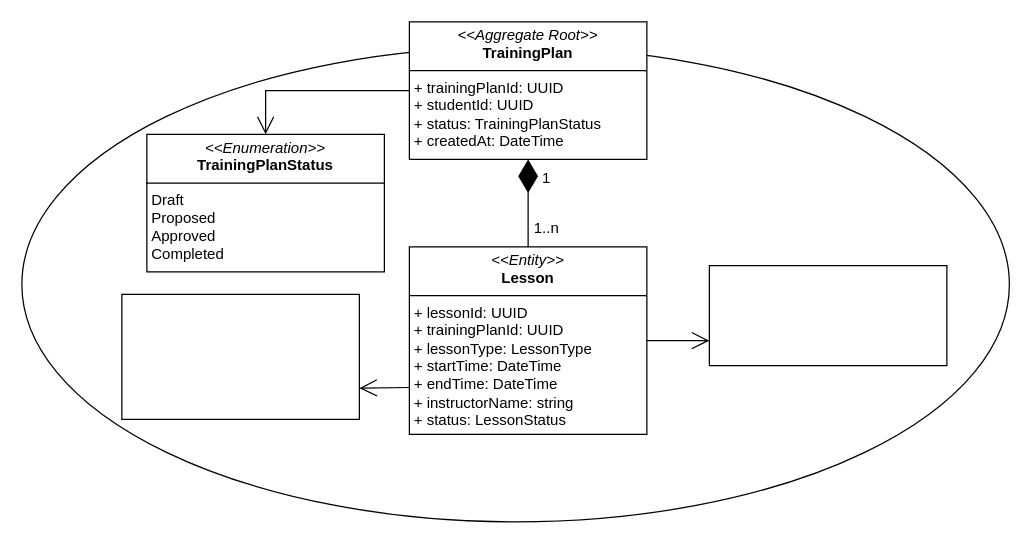
The diagram is 1031 pixels wide and 544 high, and some of its shapes have lost their labels. Each missing label, with the centre of its shape:
<<Enumeration>> LessonStatus Planned Completed Cancelled: (x=240, y=356)
<<Enumeration>> LessonType Theory Practice: (x=827, y=315)
